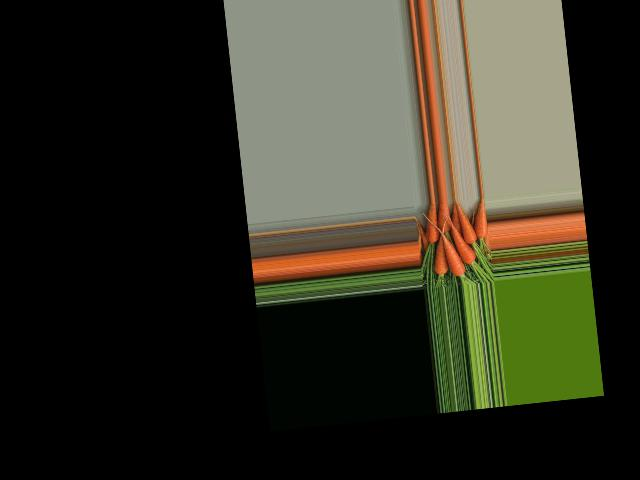carrot: (475, 197, 487, 239)
